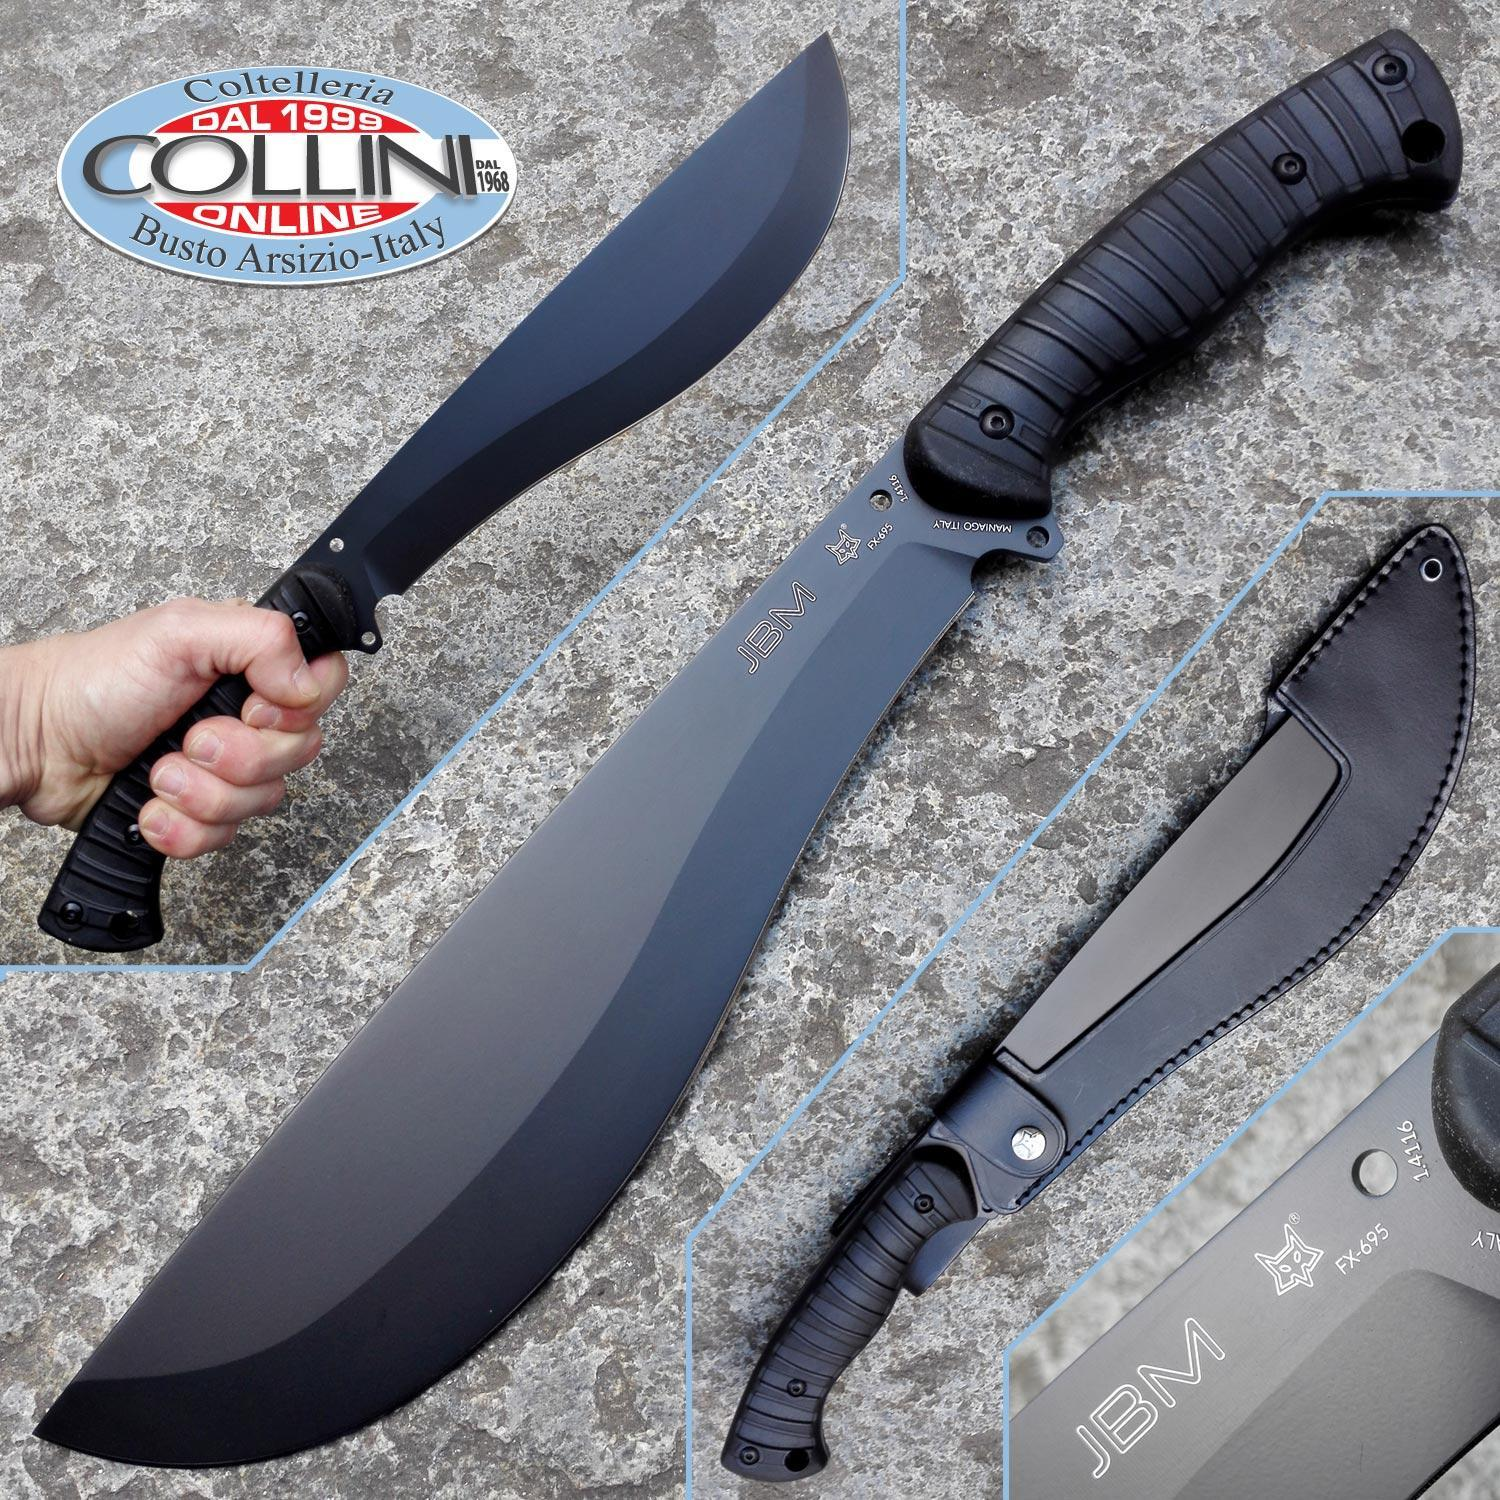facao: (34, 30, 1462, 1466), (40, 36, 848, 949), (723, 525, 1473, 1479)
